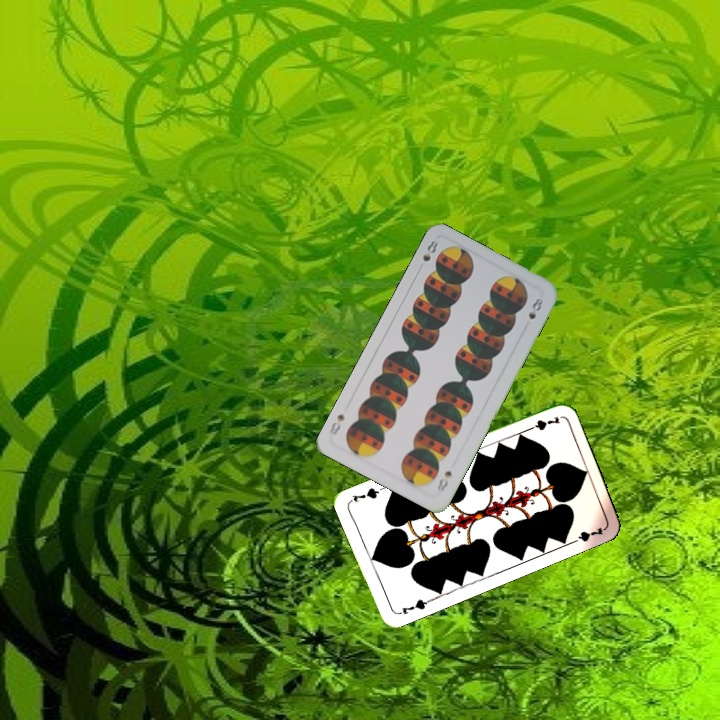G7: (522, 412, 562, 434), (394, 595, 433, 617)
S8: (414, 236, 440, 273), (433, 466, 455, 495)
